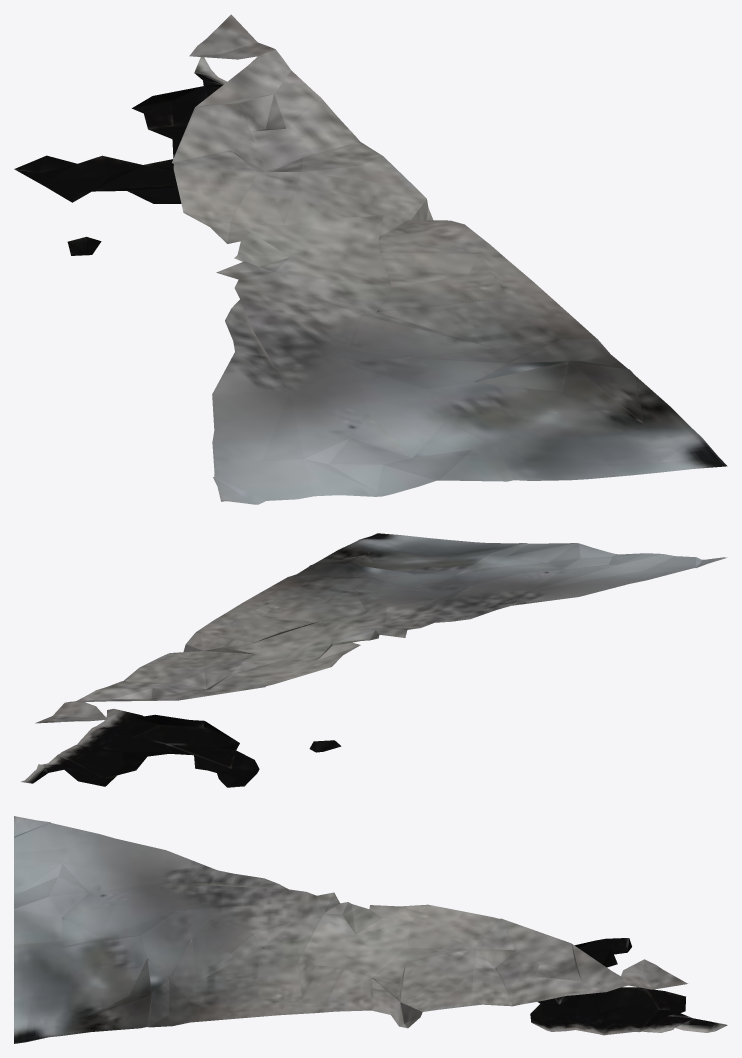
3 views of the same model, one above another, from view 1: azimuth 30°, elevation 25°; view 2: azimuth 150°, elevation 25°; view 3: azimuth 270°, elevation 25° (orthographic). The views are drawn at different scales.
Bounding box in the file's own units: 1.34 × 0.2226 × 2.4.
1 material, 1 textured.
